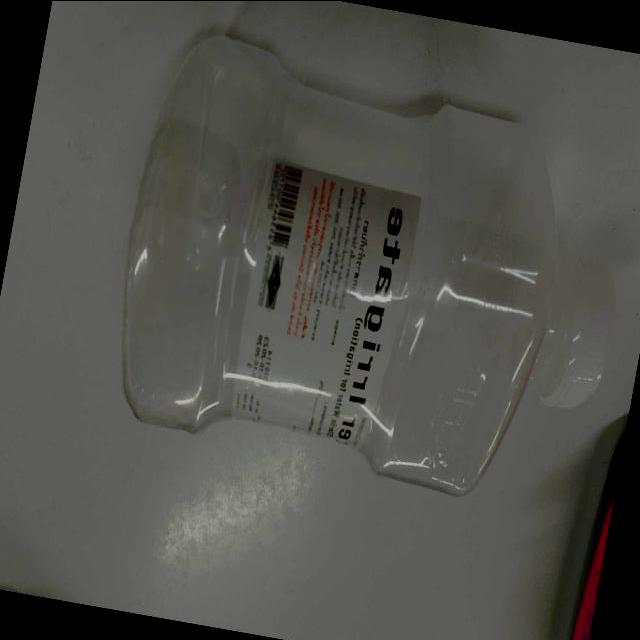Infectious: (119, 33, 558, 497)
